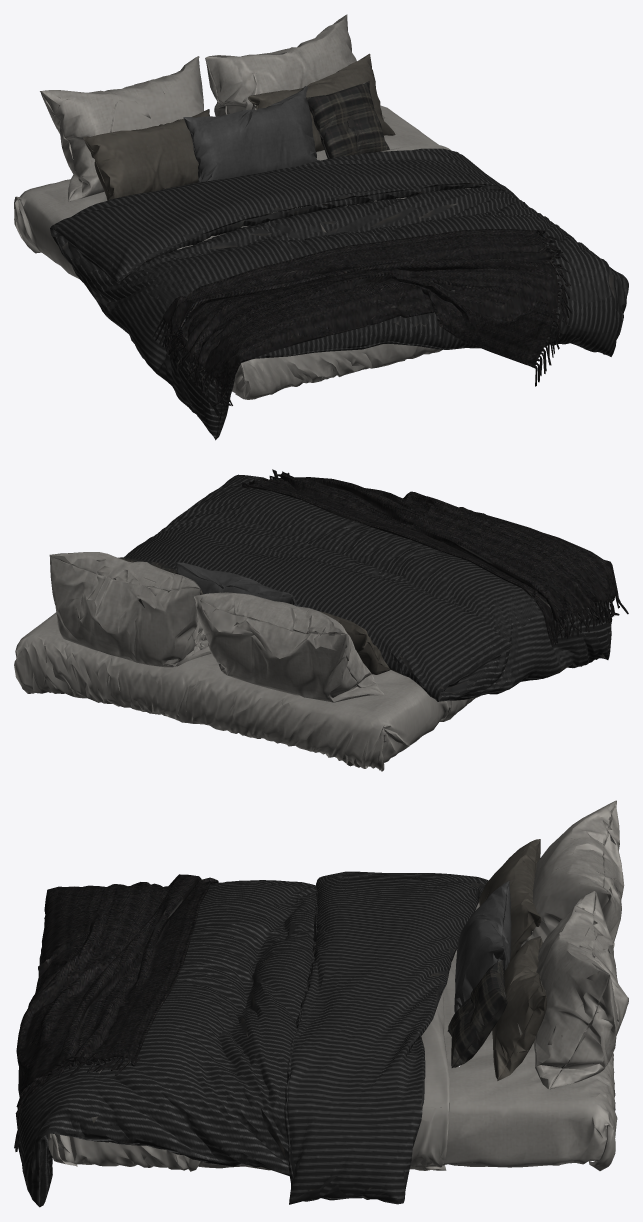
The model's file is raw_model.obj.
3 views of the same model, one above another, from view 1: azimuth 30°, elevation 25°; view 2: azimuth 150°, elevation 25°; view 3: azimuth 270°, elevation 25° (orthographic). The views are drawn at different scales.
Visible parts, largest first — view 1: solid_003, solid_002, solid_001, solid_007, solid_004, solid_005, solid_006; view 2: solid_003, solid_001, solid_007, solid_002, solid_005, solid_004; view 3: solid_003, solid_002, solid_007, solid_001, solid_004, solid_005, solid_006.
Part boxes in pixels (x1,y1,x2,y2): solid_003: [50, 148, 628, 440]; solid_002: [151, 229, 572, 406]; solid_001: [40, 14, 385, 201]; solid_007: [14, 105, 481, 399]; solid_004: [83, 53, 395, 200]; solid_005: [183, 86, 319, 182]; solid_006: [306, 81, 389, 158]; solid_003: [123, 474, 611, 701]; solid_001: [49, 552, 384, 702]; solid_007: [14, 612, 479, 771]; solid_002: [241, 469, 628, 646]; solid_005: [174, 562, 297, 606]; solid_004: [200, 590, 390, 674]; solid_003: [19, 871, 488, 1207]; solid_002: [14, 874, 218, 1161]; solid_007: [48, 903, 617, 1171]; solid_001: [520, 800, 628, 1089]; solid_004: [479, 839, 546, 1080]; solid_005: [454, 881, 511, 1012]; solid_006: [447, 960, 507, 1067].
Size of the model in its own units: 2.14 by 0.8692 by 2.18.
Materials: 1 (1 with a texture image).
